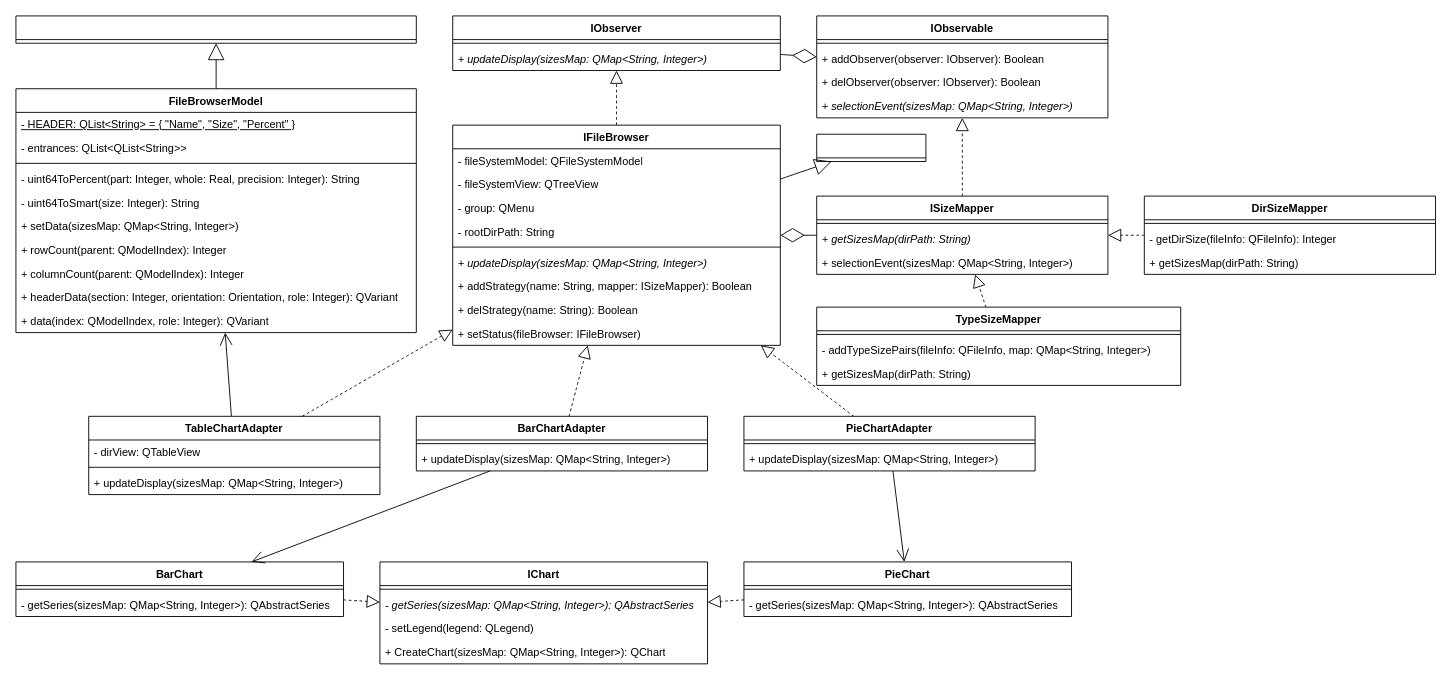
Some shapes in this 1451 by 683 pixel diagram are drawn without their labels. Each missing label, with the centre of its shape:
"QAbstractTableModel" belongs at (x=215, y=29).
"QMainWindow" belongs at (x=871, y=147).
